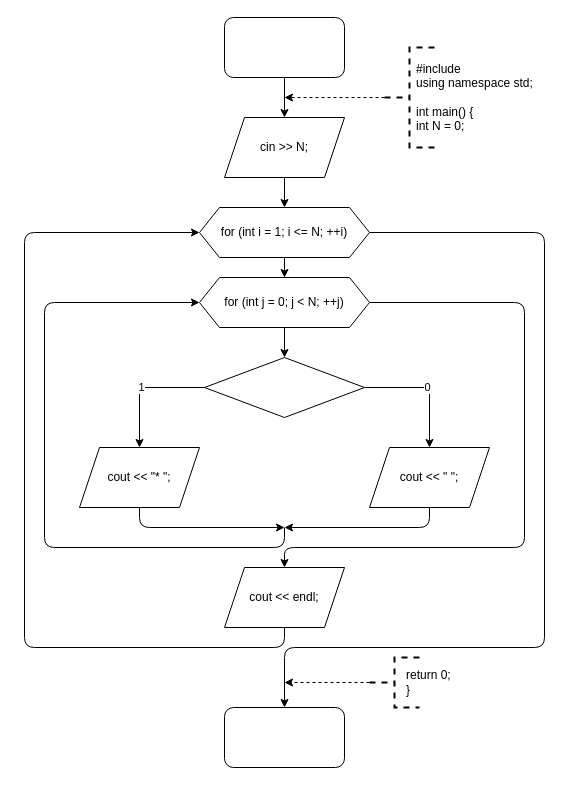
The diagram is 582 pixels wide and 785 high, and some of its shapes have lost their labels. Here are the shapes that lost their labels. From the top down, the box of each, then its label:
(224, 16, 344, 78): Начало
(204, 356, 364, 418): if (j >= N - i)
(224, 706, 344, 768): Конец
